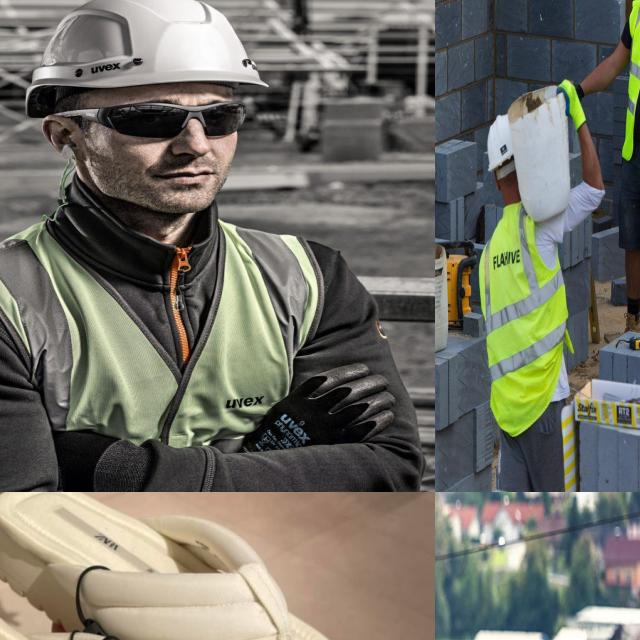Sandals: (0, 492, 417, 640)
face_nomask: (102, 84, 264, 228)
glasses: (84, 96, 250, 142)
hand_glove: (255, 355, 395, 450), (555, 64, 592, 131)
head_helmet: (27, 0, 272, 93), (488, 110, 514, 172)
person: (0, 0, 404, 492), (480, 112, 576, 397), (612, 0, 640, 323)
vest: (0, 214, 330, 492), (478, 201, 569, 433), (624, 0, 640, 175)
